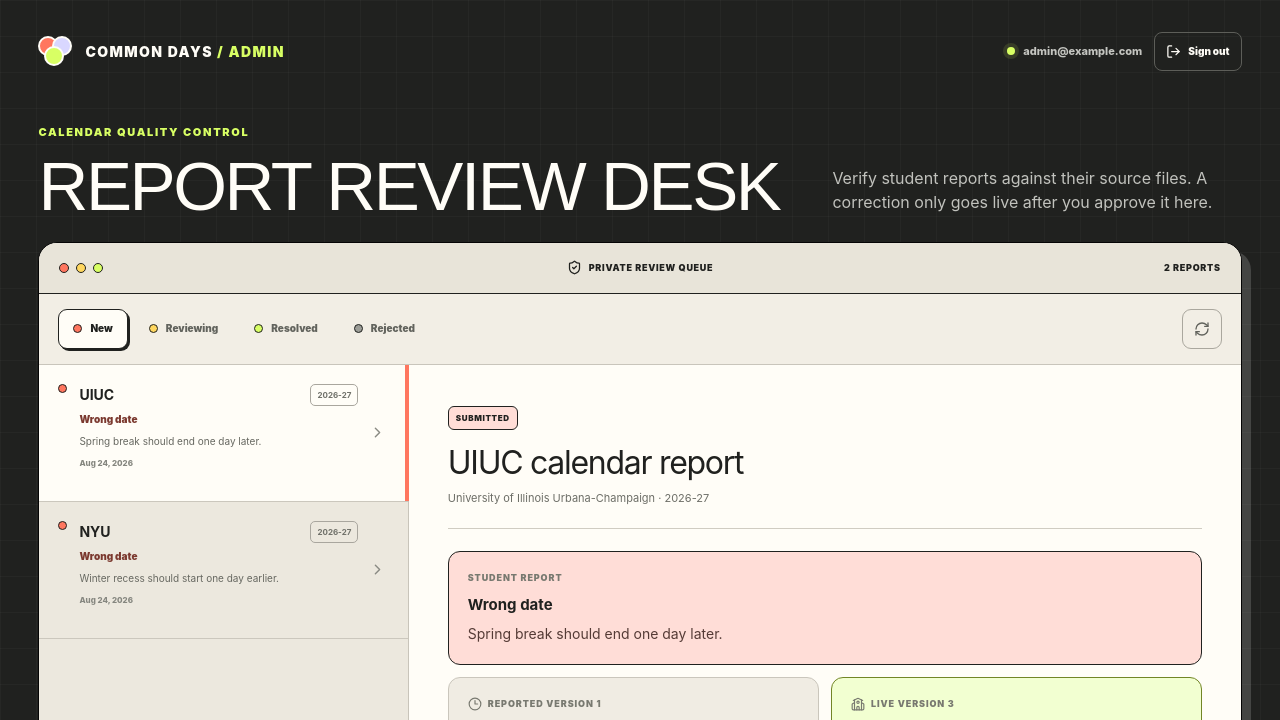
Test: Common Days admin frontend › keeps the latest selected report when detail responses finish out of order
Expected: the heading "UIUC calendar report" is shown, x1=448 y1=439 x2=743 y2=487
Click the button that starts with "NYU": (224, 570) x1=39 y1=502 x2=408 y2=638
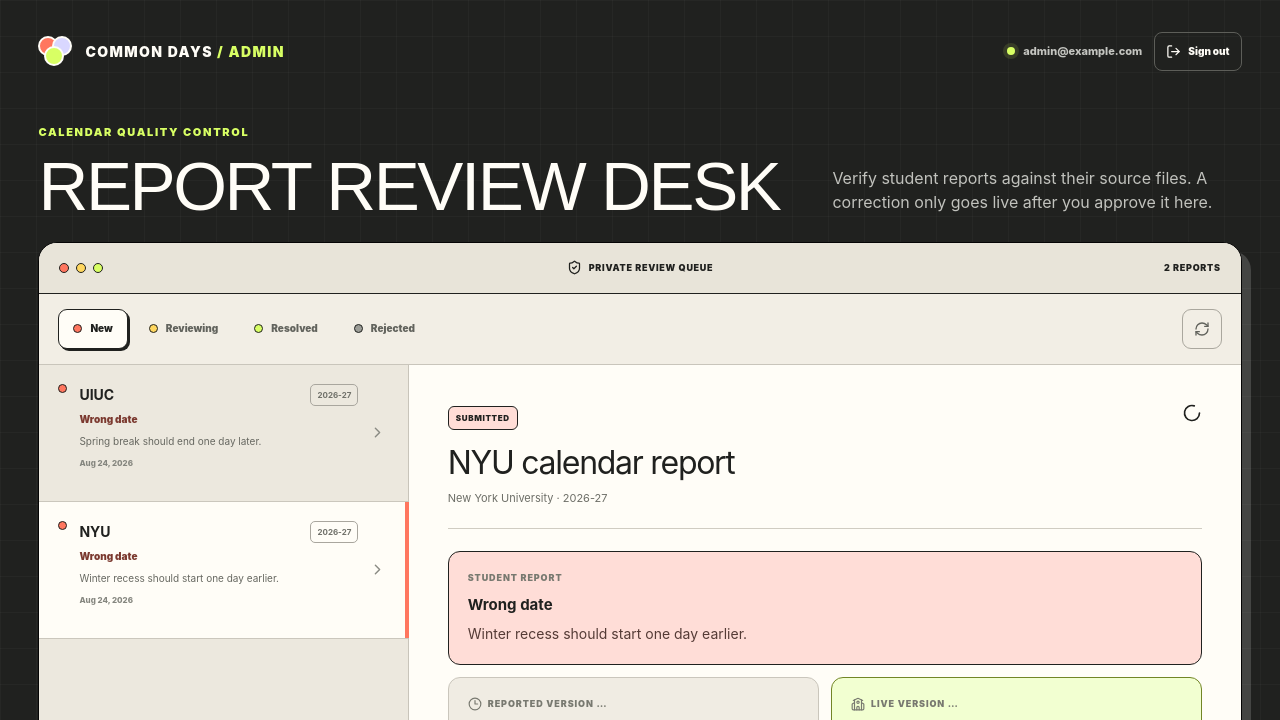
Click the button that starts with "UIUC": (224, 433) x1=39 y1=364 x2=408 y2=502
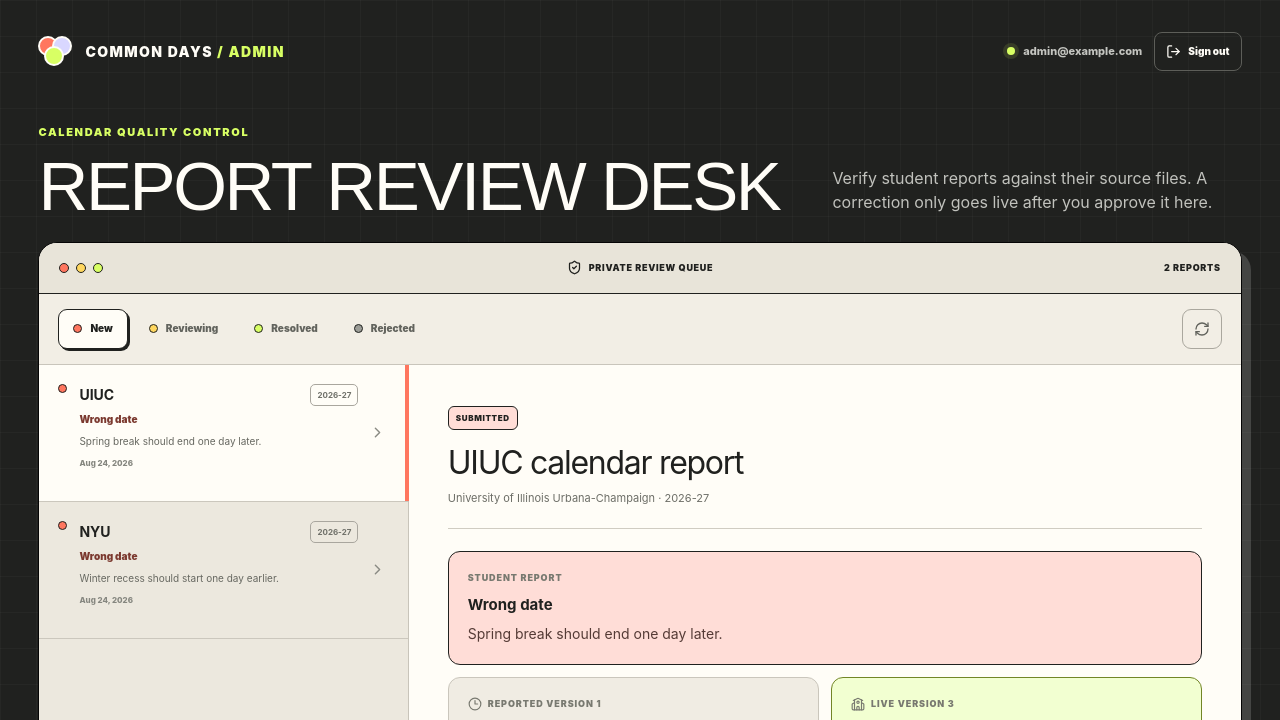
Expected: the heading "UIUC calendar report" is shown, x1=448 y1=439 x2=743 y2=487
Expected: the heading "NYU calendar report" is gone
